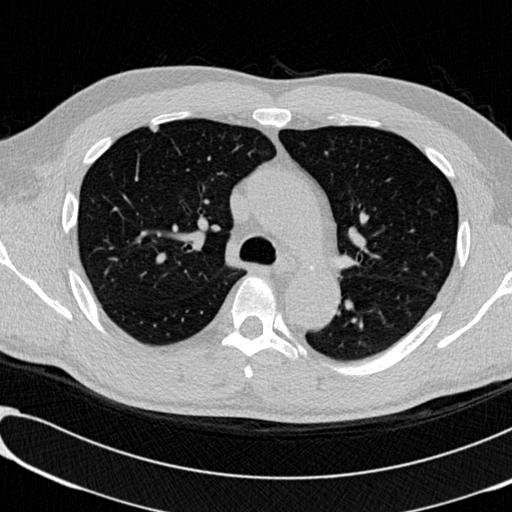nodule: (147, 122, 160, 135)
